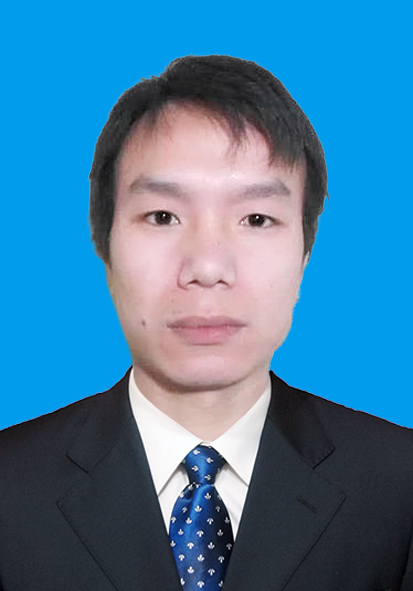unmask: (112, 142, 305, 371)
